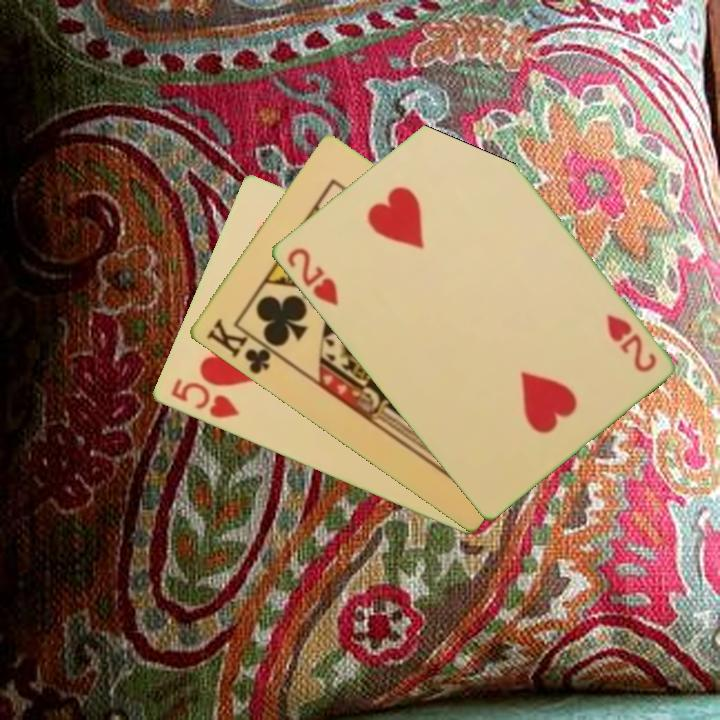2h: (283, 244, 341, 309), (602, 310, 659, 376)
5h: (167, 375, 242, 422)
Kc: (202, 314, 282, 378)
